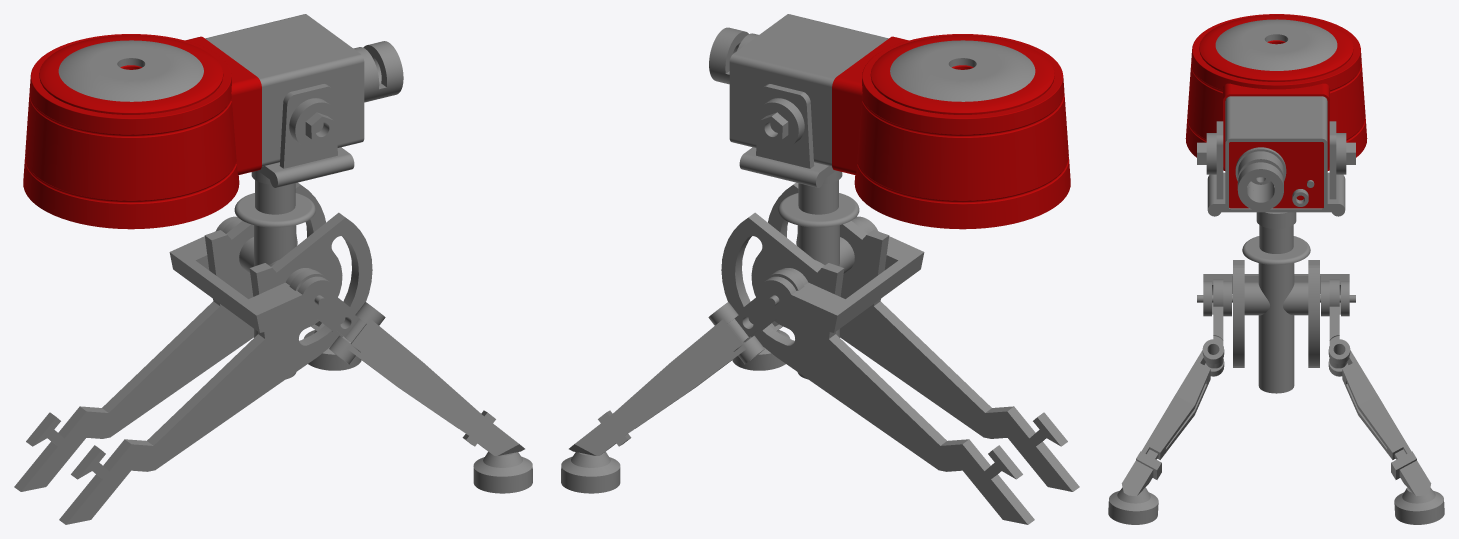
File: Sentry Gun.glb
The picture shows the model from 3 angles, left to right: view 1: azimuth 30°, elevation 25°; view 2: azimuth 150°, elevation 25°; view 3: azimuth 270°, elevation 25°; orthographic projection. The views are drawn at different scales.
Parts seen in each view (by area): view 1: Body_1 (×12), 3DGeom-78, 3DGeom-77, Body_2 (×2), Body_3; view 2: Body_1 (×12), 3DGeom-78, 3DGeom-77, Body_2 (×2); view 3: Body_1 (×15), 3DGeom-78, 3DGeom-77, Body_2 (×2), Body_3.
Boxes of the visible parts, bbox=[...] form: Body_1 (×12): bbox=[14, 40, 532, 524]; 3DGeom-78: bbox=[23, 34, 261, 229]; 3DGeom-77: bbox=[205, 14, 364, 166]; Body_2 (×2): bbox=[169, 84, 354, 300]; Body_3: bbox=[289, 98, 338, 148]; Body_1 (×12): bbox=[561, 27, 1079, 524]; 3DGeom-78: bbox=[832, 34, 1070, 229]; 3DGeom-77: bbox=[729, 14, 888, 166]; Body_2 (×2): bbox=[739, 84, 880, 332]; Body_1 (×15): bbox=[1108, 19, 1444, 524]; 3DGeom-78: bbox=[1185, 14, 1367, 208]; 3DGeom-77: bbox=[1225, 96, 1327, 212]; Body_2 (×2): bbox=[1207, 121, 1349, 316]; Body_3: bbox=[1197, 133, 1216, 174].
Bounding box in the file's own units: 0.1186 × 0.1192 × 0.1014.
